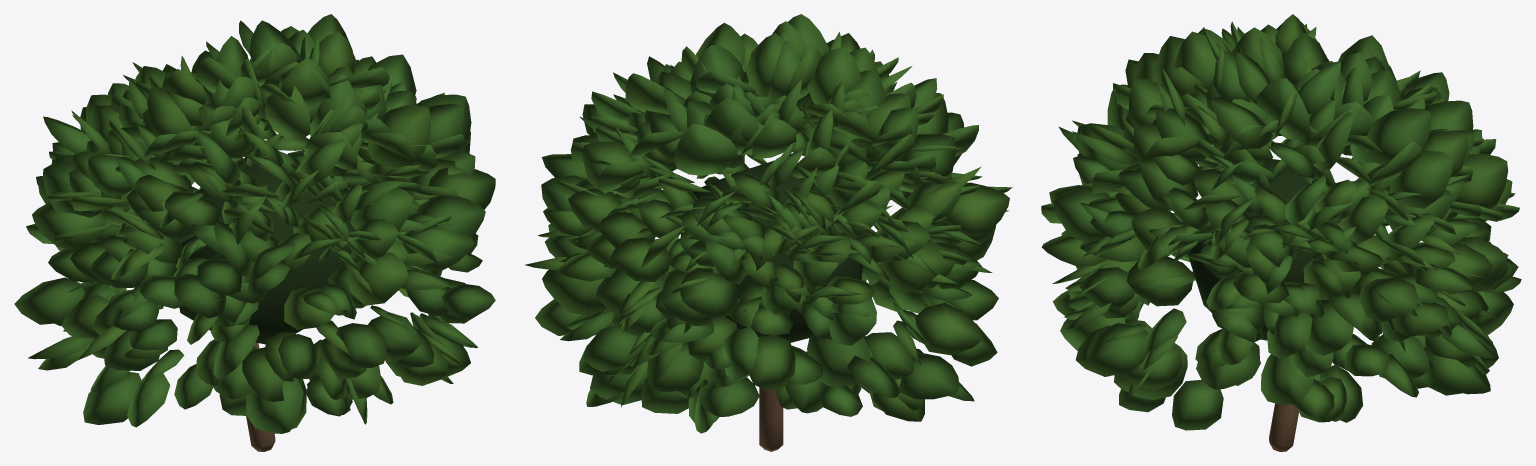
The model's file is potfill_boxball.glb.
3 views of the same model, side by side, from view 1: azimuth 30°, elevation 25°; view 2: azimuth 150°, elevation 25°; view 3: azimuth 270°, elevation 25° (orthographic). The views are drawn at different scales.
Parts seen in each view (by area): view 1: Sammel Pflanze, Sammel Blatt, Sammel Holz; view 2: Sammel Pflanze, Sammel Blatt, Sammel Holz; view 3: Sammel Pflanze, Sammel Blatt, Sammel Holz.
Boxes of the visible parts, bbox=[...] form: Sammel Pflanze: bbox=[14, 14, 495, 433]; Sammel Blatt: bbox=[174, 157, 355, 344]; Sammel Holz: bbox=[246, 342, 275, 451]; Sammel Pflanze: bbox=[525, 14, 1012, 433]; Sammel Blatt: bbox=[681, 160, 861, 342]; Sammel Holz: bbox=[759, 387, 783, 451]; Sammel Pflanze: bbox=[1041, 14, 1521, 430]; Sammel Blatt: bbox=[1187, 159, 1336, 340]; Sammel Holz: bbox=[1269, 403, 1298, 451].
Size of the model in its own units: 0.3944 by 0.3728 by 0.3909.
